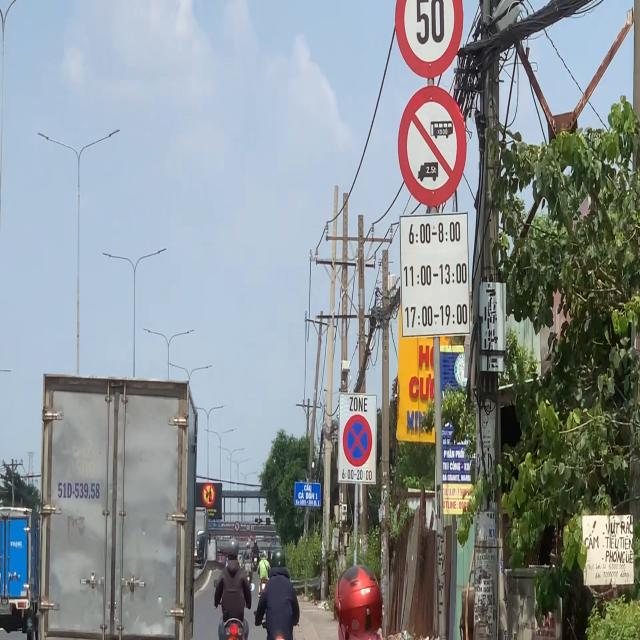Cam dung va do: (342, 414, 372, 467)
Toc do toi da: (395, 0, 464, 78)
